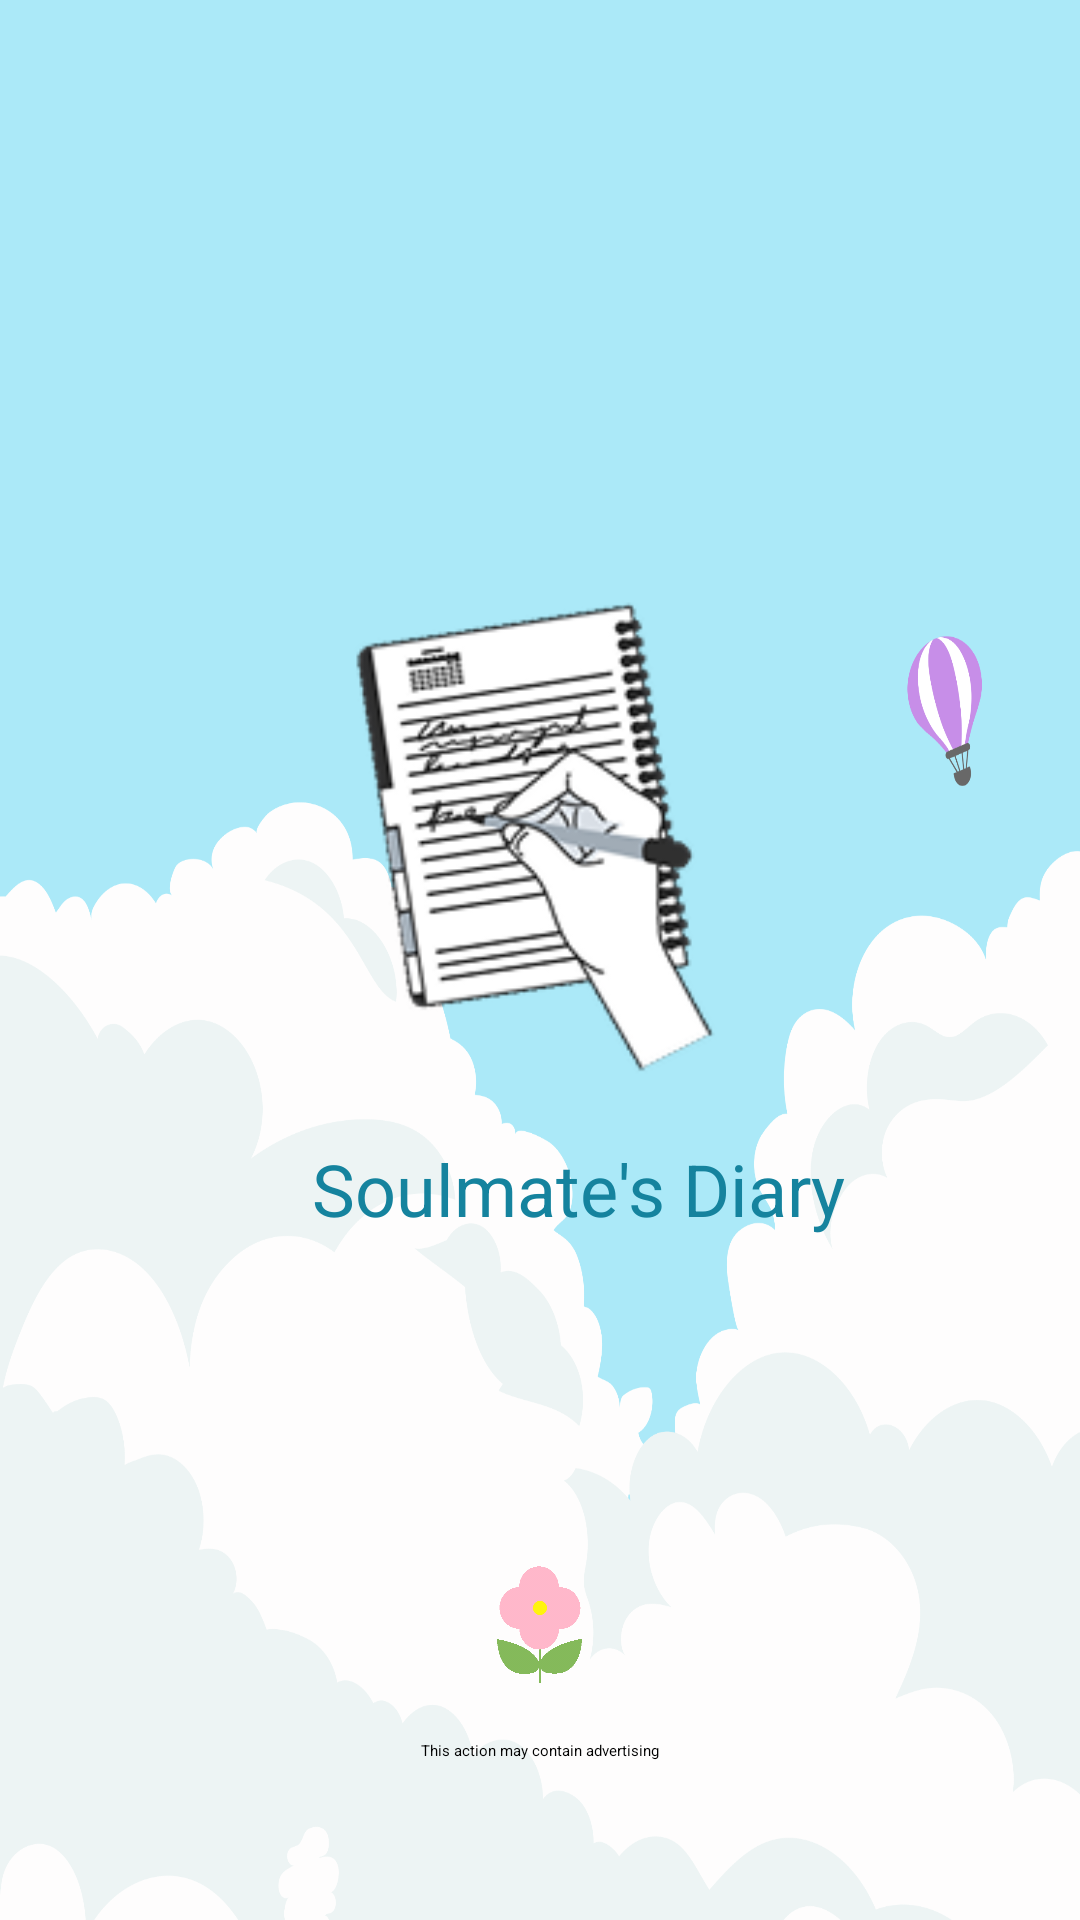

Locate icon controls on the screen. Image size 1080x1920, boxes as (x1, y1, x2, y2).
fllower: (497, 1494, 631, 1683)
